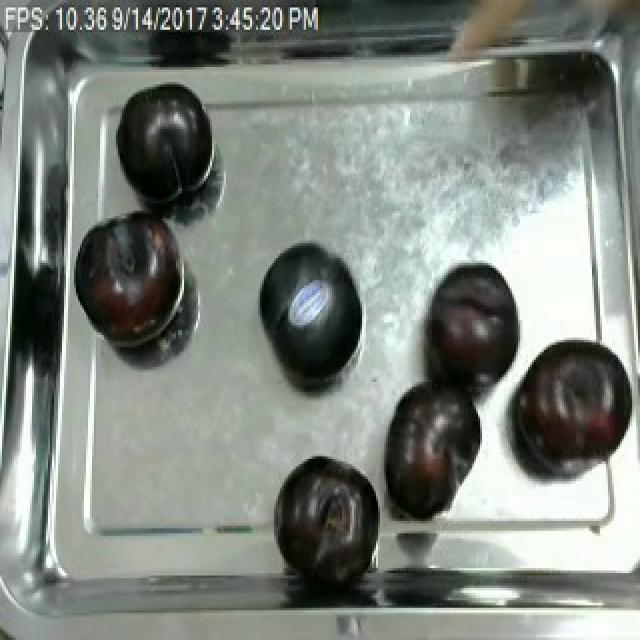Fruit: (506, 335, 636, 486), (248, 233, 368, 392), (70, 206, 188, 357), (378, 369, 492, 524), (420, 258, 528, 394), (112, 77, 218, 213), (274, 452, 378, 570)
